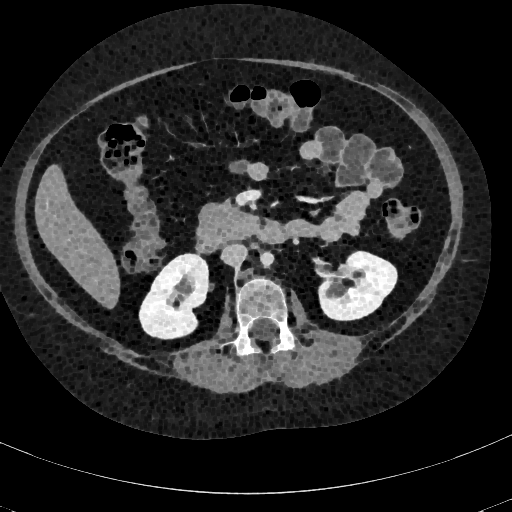Lesion: (326, 275, 353, 301)
